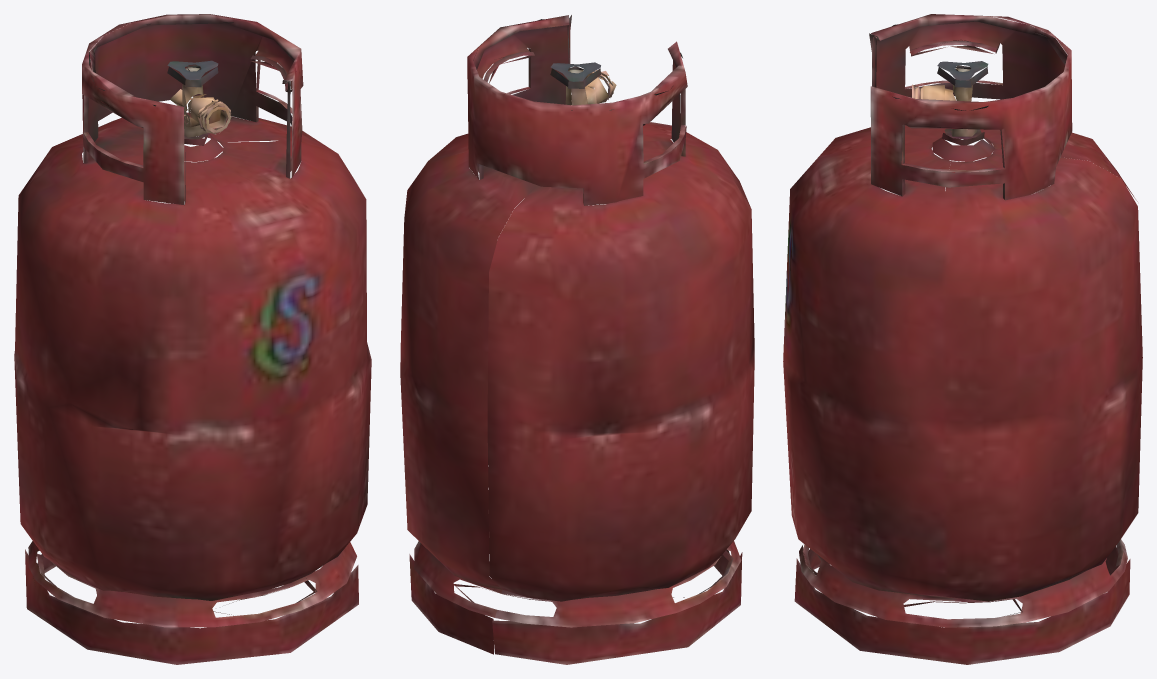
The model's file is propane_tank.gltf.
3 renders of one model, left to right at view 1: azimuth 30°, elevation 25°; view 2: azimuth 150°, elevation 25°; view 3: azimuth 270°, elevation 25°, orthographic.
Parts seen in each view (by area): view 1: propane_tank; view 2: propane_tank; view 3: propane_tank.
Part boxes in pixels (x1,y1,x2,y2): propane_tank: (14,14,371,664); propane_tank: (400,15,754,664); propane_tank: (783,14,1142,664).
Bounding box in the file's own units: 0.335 × 0.5539 × 0.337.
1 material, 1 textured.
